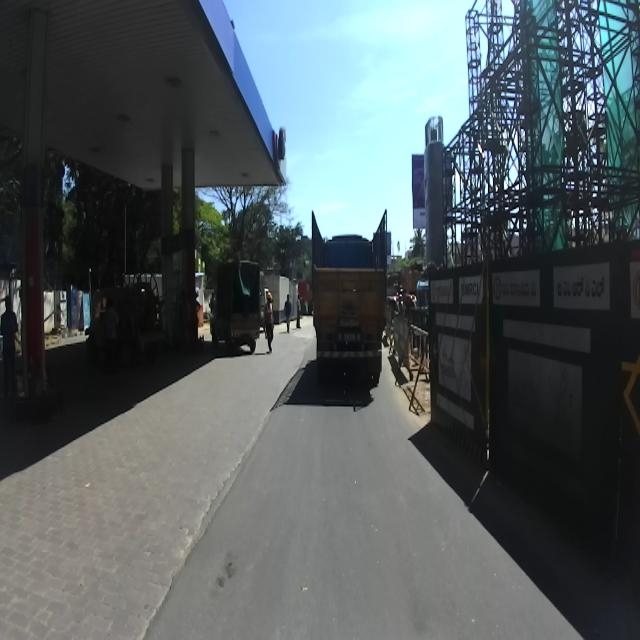car ahead at: (210, 246, 262, 360)
truck ahead at: (306, 210, 394, 369)
